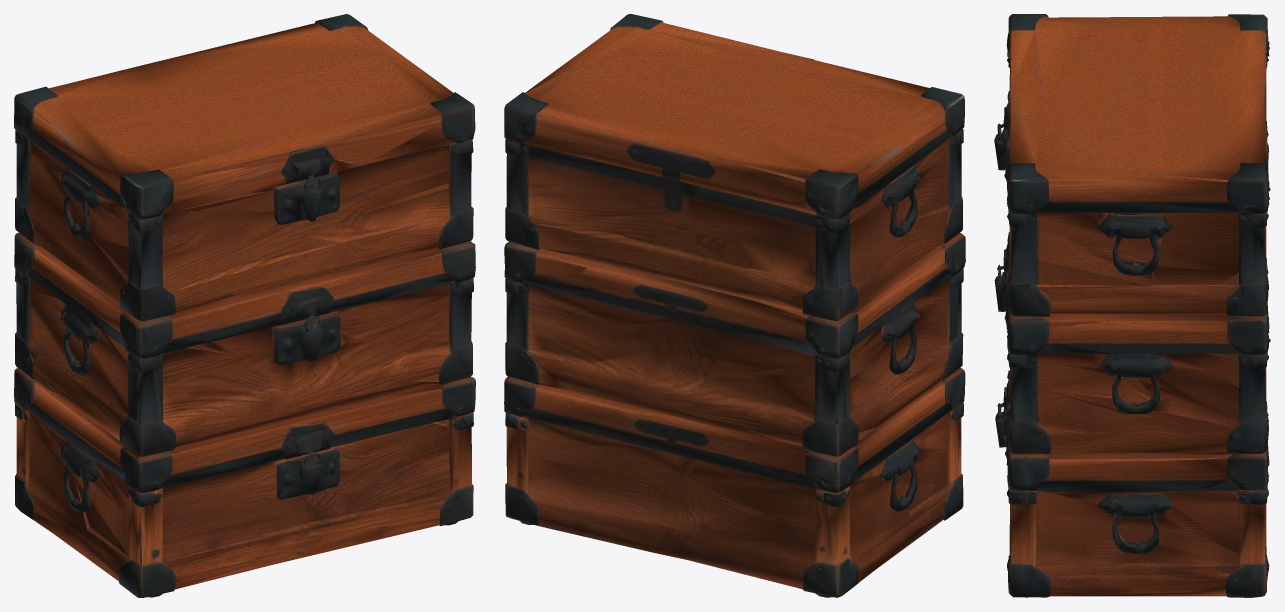
File: strongboxes.glb
3 renders of one model, left to right at view 1: azimuth 30°, elevation 25°; view 2: azimuth 150°, elevation 25°; view 3: azimuth 270°, elevation 25°, orthographic.
Parts seen in each view (by area): view 1: strongboxes; view 2: strongboxes; view 3: strongboxes.
Boxes of the visible parts, left/top/right/bottom form: strongboxes: left=14, top=14, right=475, bottom=597; strongboxes: left=504, top=14, right=965, bottom=597; strongboxes: left=994, top=14, right=1270, bottom=597.
Bounding box in the file's own units: 1.12 × 1.3 × 0.7683.
Materials: 1 (1 with a texture image).
